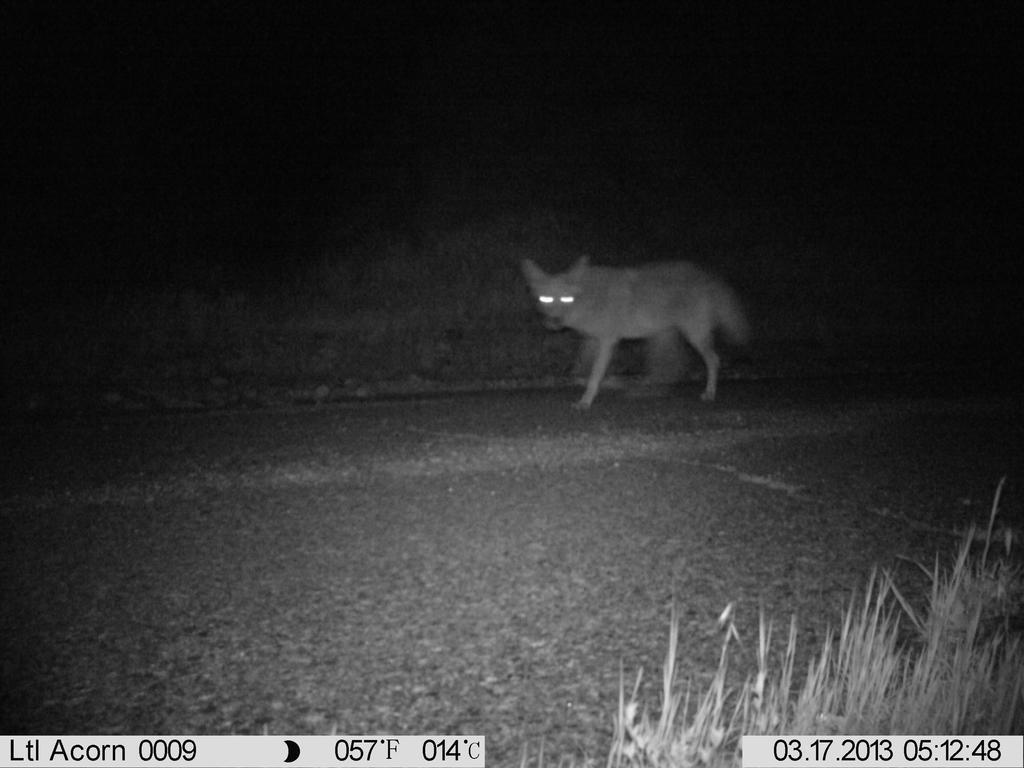coyote: (510, 240, 753, 424)
